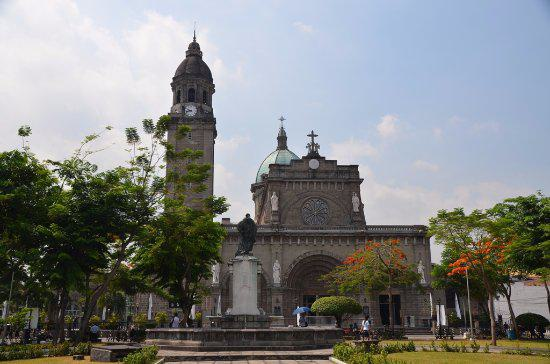manila_cathedral_church_intramuros_manila: (147, 18, 438, 339)
